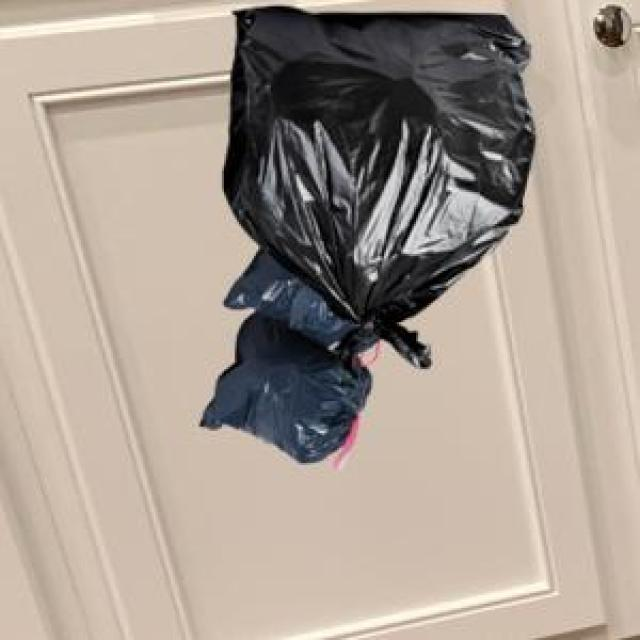Trashbag: (217, 6, 544, 335), (195, 308, 378, 467)
